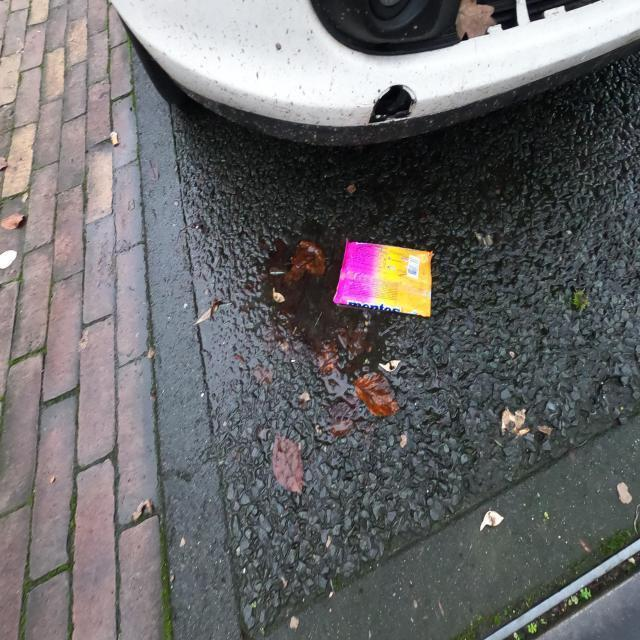Plastic: (332, 235, 434, 318)
